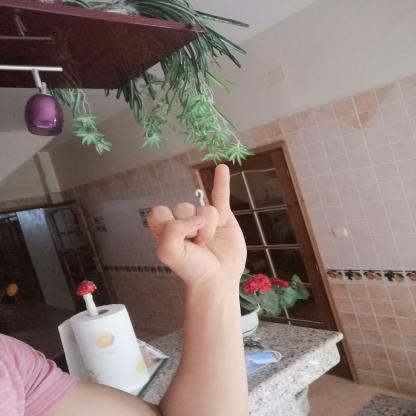MEEM: (135, 155, 262, 296)
